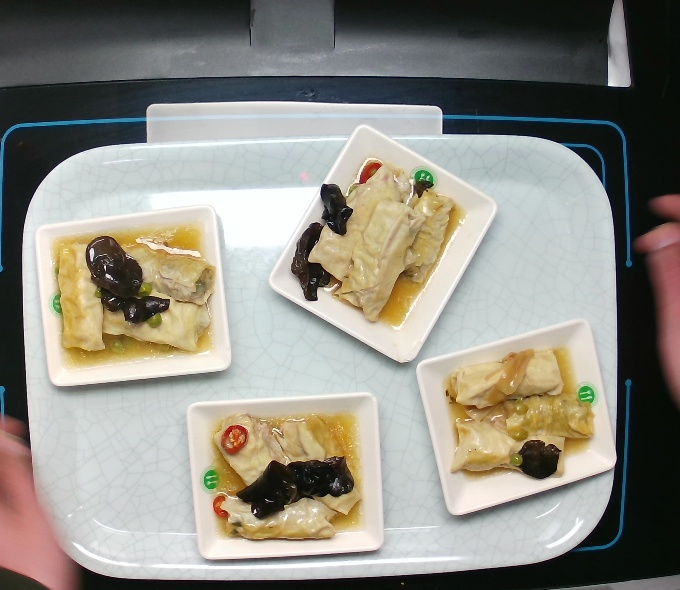wcq-QianZhangBao: (286, 151, 471, 330), (41, 216, 226, 374), (435, 338, 601, 486), (198, 407, 369, 547)
